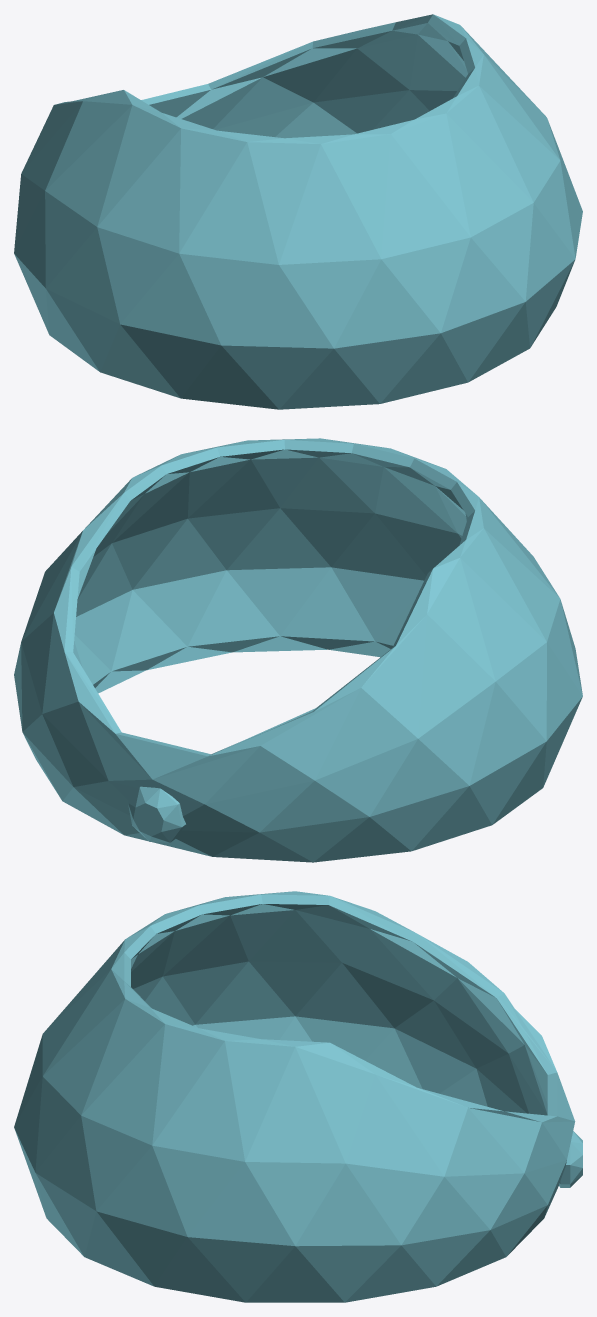
The model's file is Glass_Armor.glb.
3 renders of one model, top to bottom at view 1: azimuth 30°, elevation 25°; view 2: azimuth 150°, elevation 25°; view 3: azimuth 270°, elevation 25°, orthographic. The views are drawn at different scales.
Visible parts, largest first — view 1: Glass_Armor; view 2: Glass_Armor; view 3: Glass_Armor.
Boxes of the visible parts, x1,y1,x2,y2 form: Glass_Armor: (14, 14, 582, 409); Glass_Armor: (14, 438, 582, 862); Glass_Armor: (14, 891, 582, 1302).
Bounding box in the file's own units: 1.42 × 0.6423 × 1.43.
